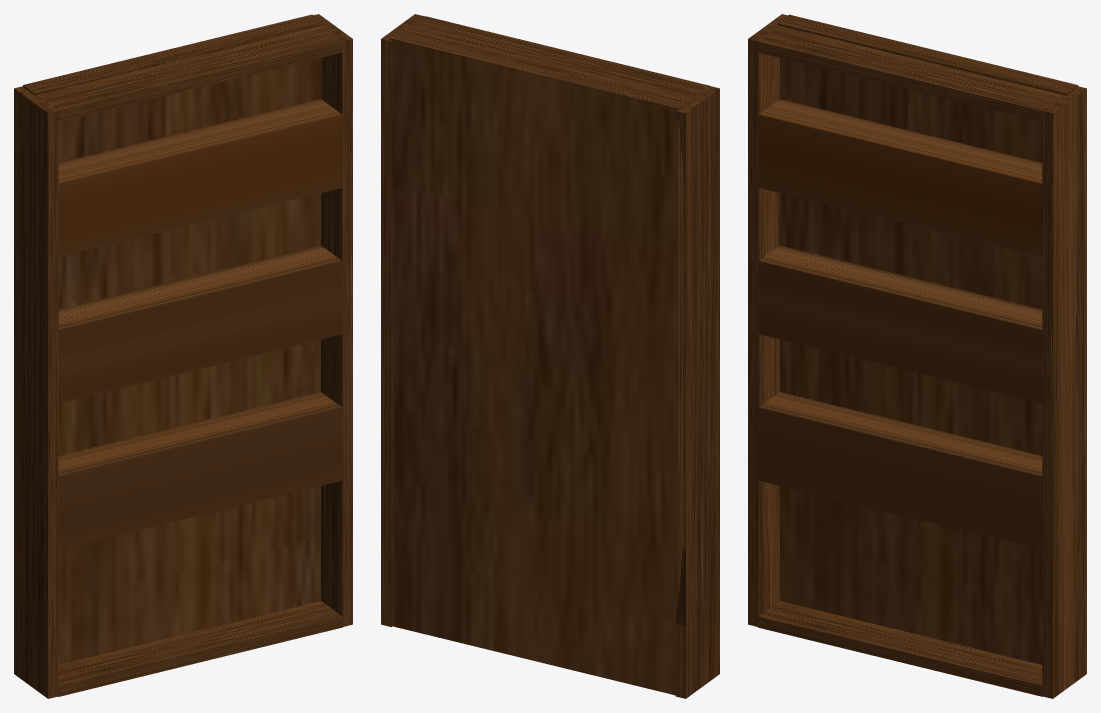
Rendered from bookshelf.fbx.
The picture shows the model from 3 angles, left to right: view 1: azimuth 30°, elevation 25°; view 2: azimuth 150°, elevation 25°; view 3: azimuth 330°, elevation 25°; orthographic projection.
Parts seen in each view (by area): view 1: Cube; view 2: Cube; view 3: Cube.
Boxes of the visible parts, box(x1,y1,x2,y2) form: Cube: box(14, 14, 352, 698); Cube: box(381, 14, 719, 698); Cube: box(748, 14, 1086, 698).
Bounding box in the file's own units: 23.48 × 222 × 121.
Materials: 1 (1 with a texture image).
